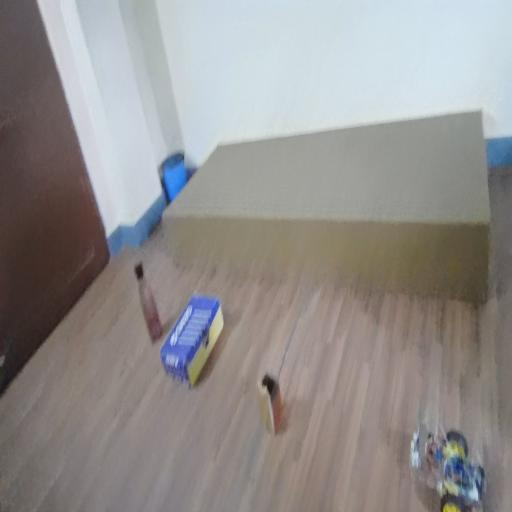Bottle: (118, 259, 172, 356)
